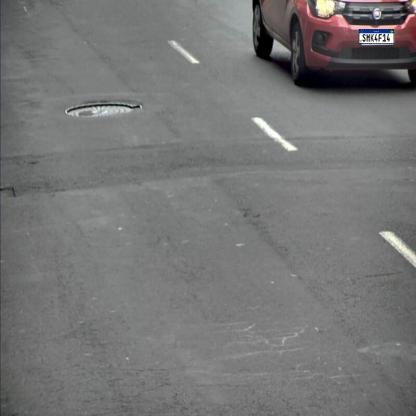PlacaM: (359, 29, 394, 44)
